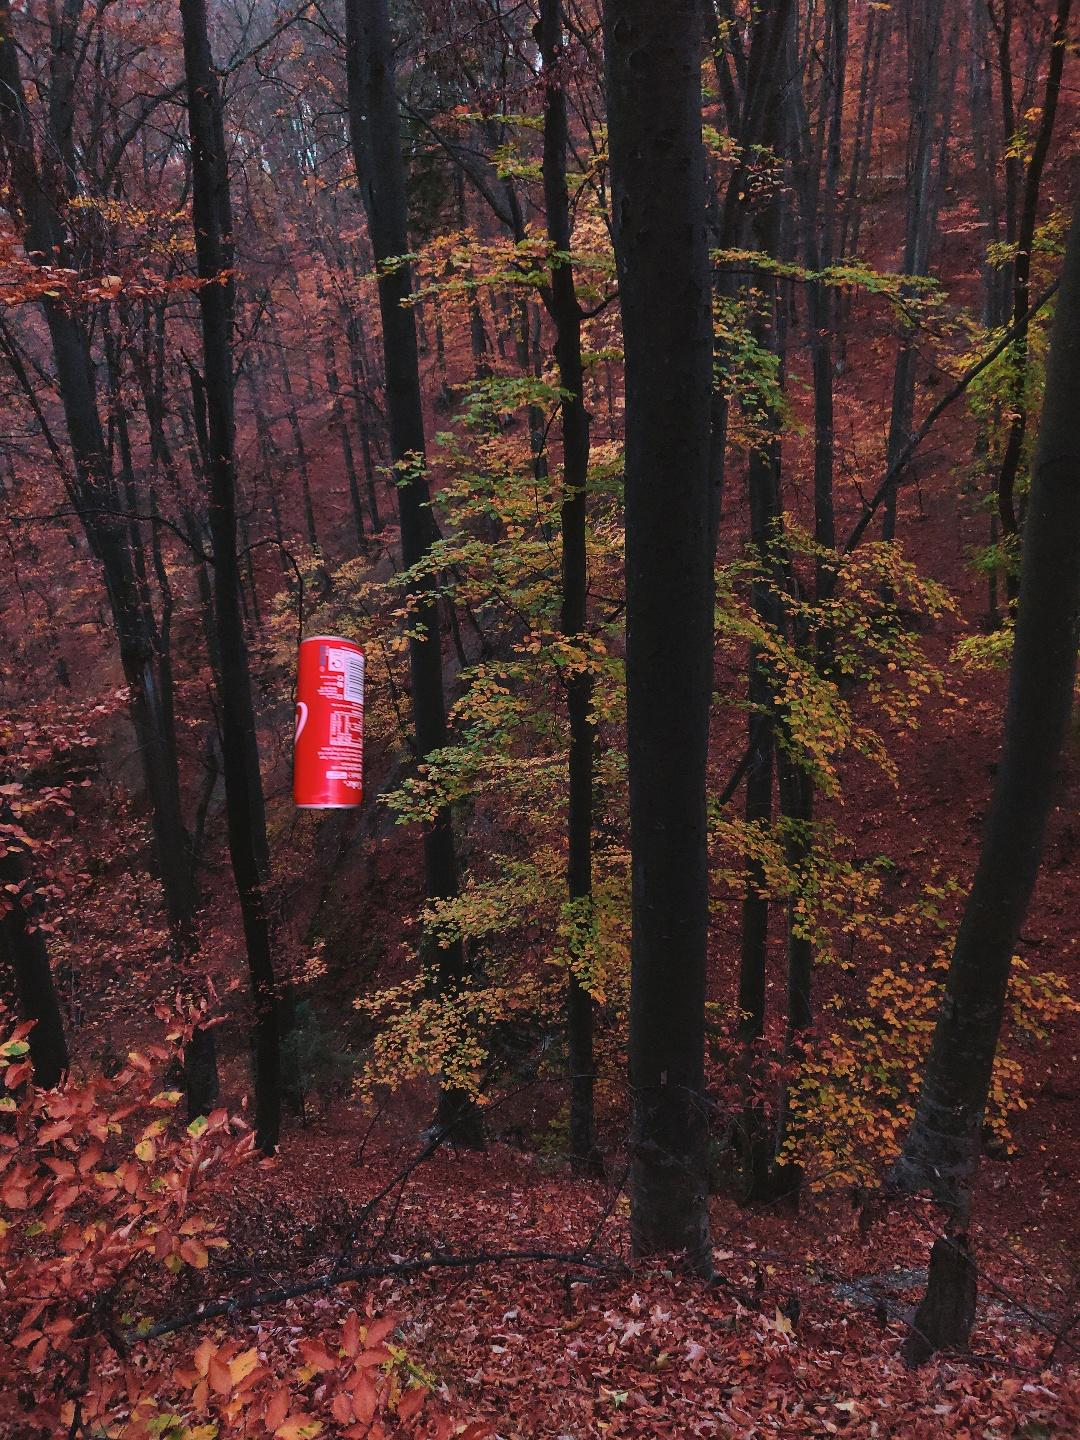metal-cans: (287, 628, 371, 818)
